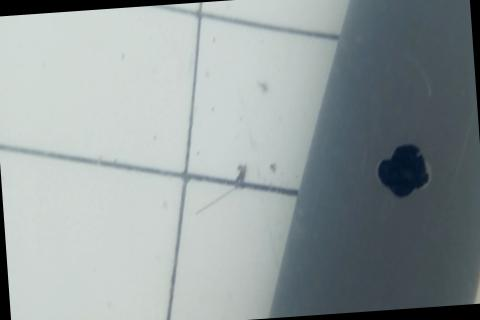kebocoran: (372, 138, 432, 202)
